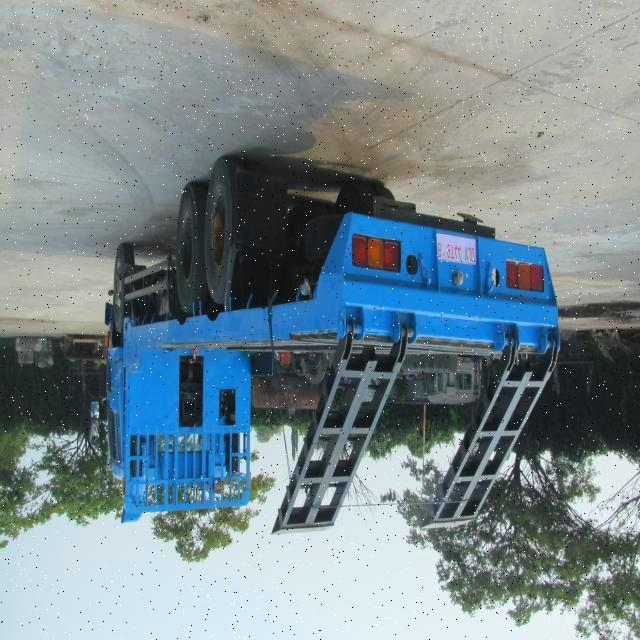truck: (99, 160, 557, 540)
